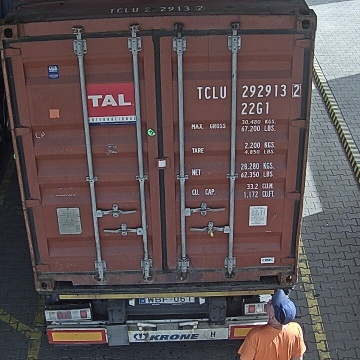serial_id: (197, 84, 301, 98)
